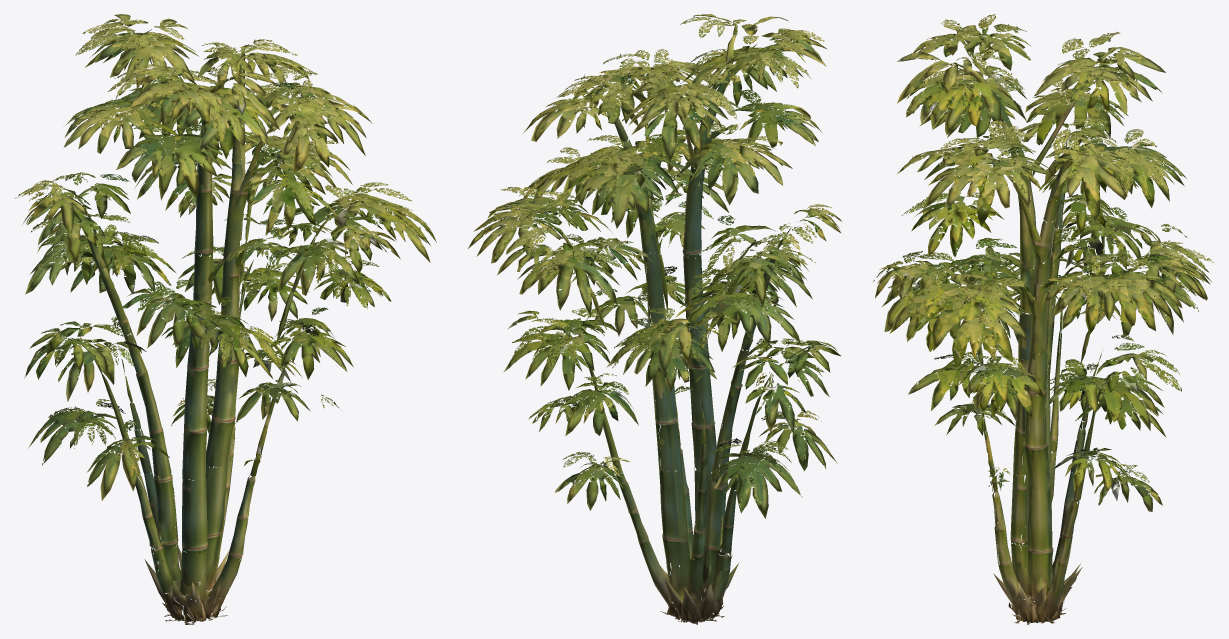
Rendered from hi3d-bamboo.glb.
3 renders of one model, left to right at view 1: azimuth 30°, elevation 25°; view 2: azimuth 150°, elevation 25°; view 3: azimuth 270°, elevation 25°, orthographic. The views are drawn at different scales.
Parts seen in each view (by area): view 1: bamboo; view 2: bamboo; view 3: bamboo.
Boxes of the visible parts, x1,y1,x2,y2 form: bamboo: [15, 14, 436, 624]; bamboo: [468, 14, 841, 624]; bamboo: [873, 14, 1214, 624].
Bounding box in the file's own units: 2.9 × 4.51 × 2.47.
1 material, 1 textured.
